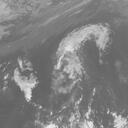cyclone: (50, 45, 85, 94)
